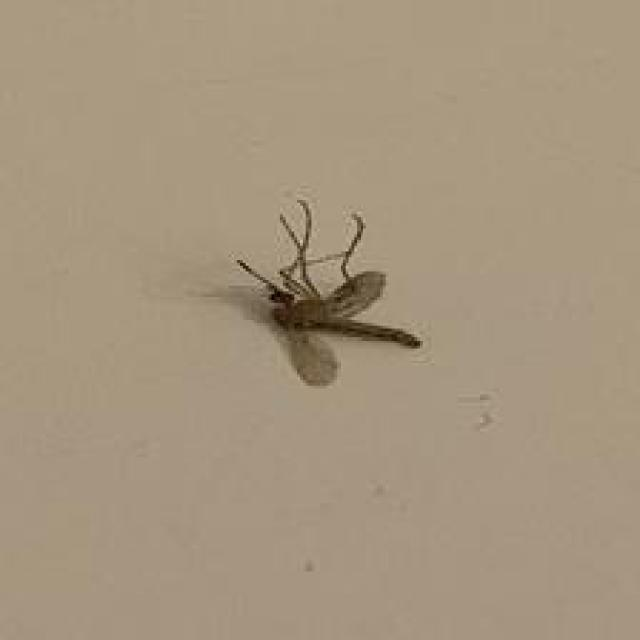Culex: (231, 197, 423, 386)
